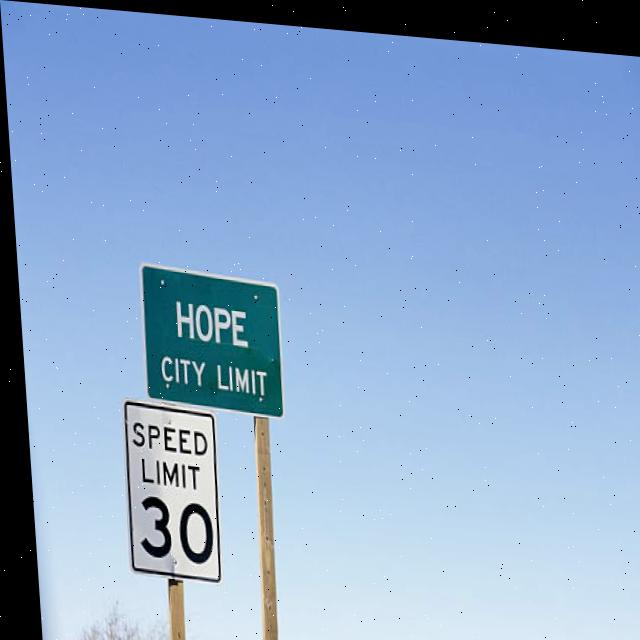Speed limit 30: (113, 394, 220, 584)
